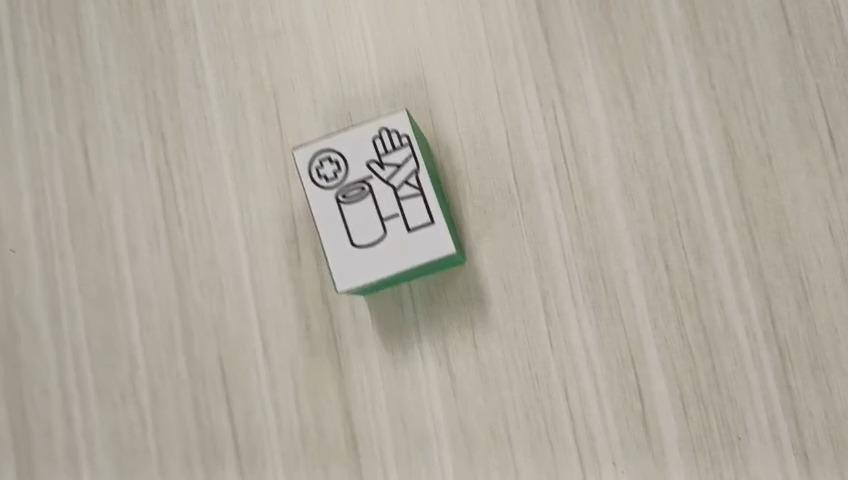Bandages: (290, 106, 466, 295)
